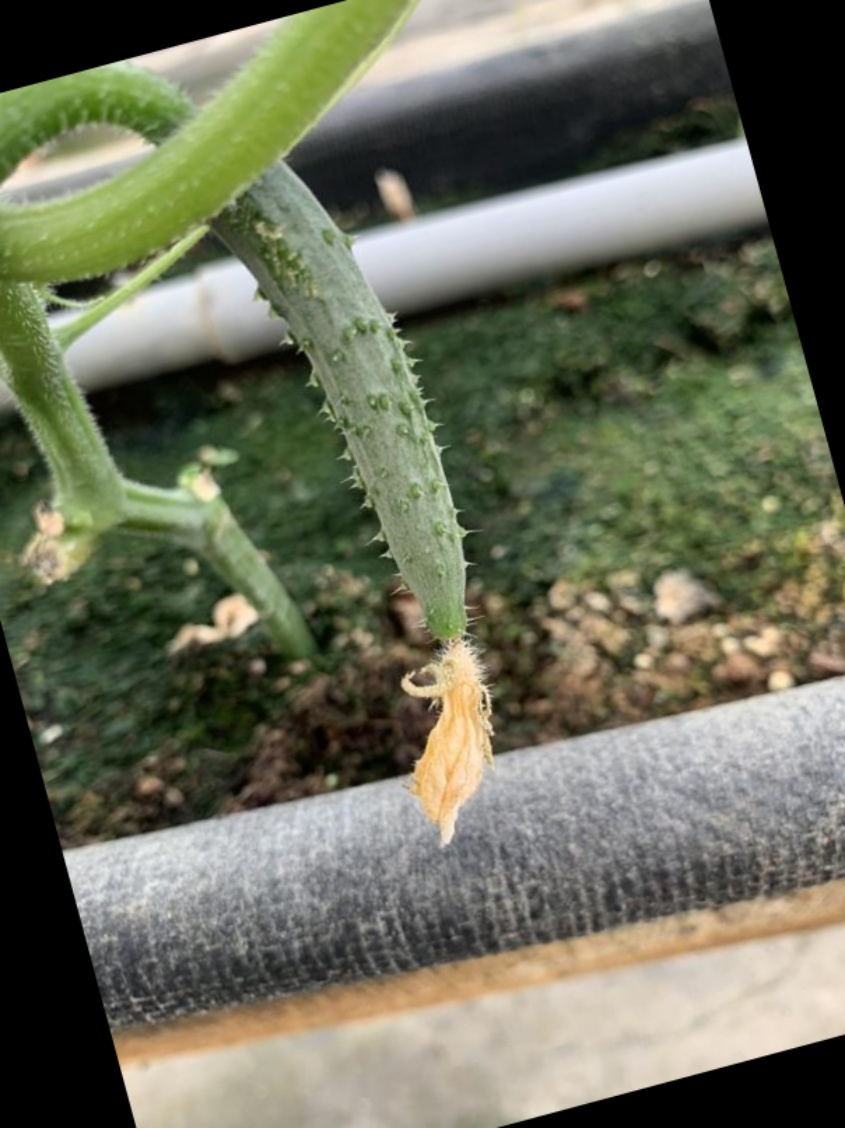bear: (225, 188, 568, 847)
growth: (200, 162, 553, 805)
